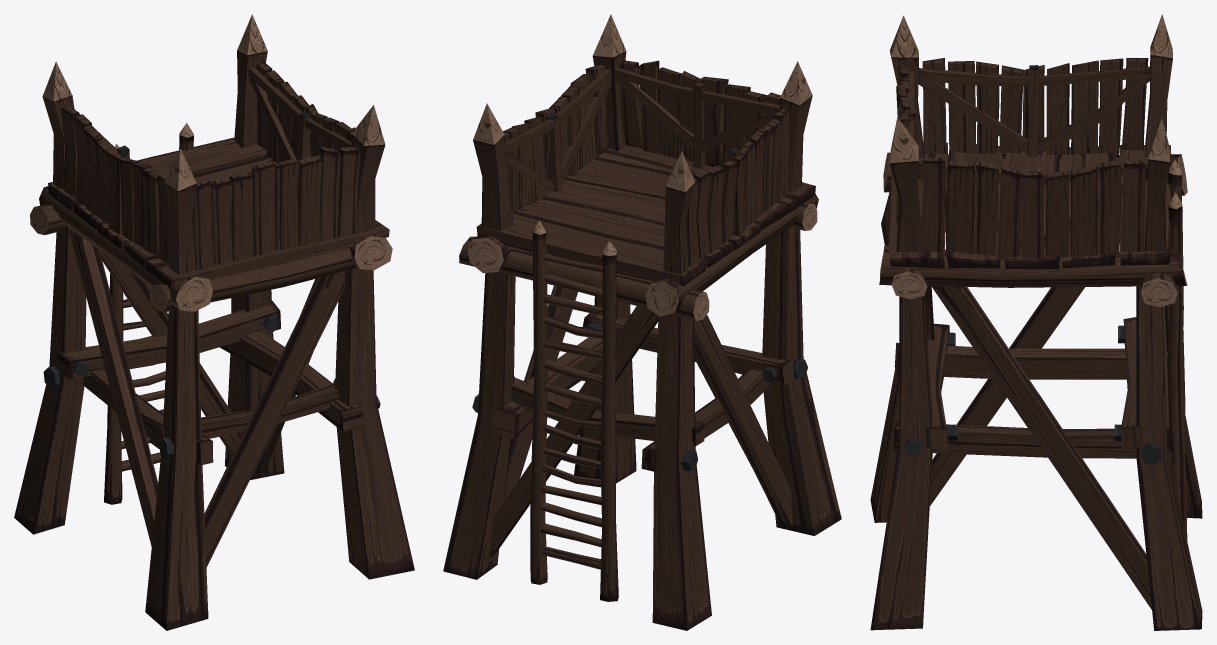
Rendered from SM_PROP_watchtower_battle.fbx.
3 renders of one model, left to right at view 1: azimuth 30°, elevation 25°; view 2: azimuth 150°, elevation 25°; view 3: azimuth 270°, elevation 25°, orthographic. The views are drawn at different scales.
Parts seen in each view (by area): view 1: SM_PROP_watchtower_battle; view 2: SM_PROP_watchtower_battle; view 3: SM_PROP_watchtower_battle.
Boxes of the visible parts, box(x1,y1,x2,y2) form: SM_PROP_watchtower_battle: box(14, 14, 414, 630); SM_PROP_watchtower_battle: box(443, 14, 841, 630); SM_PROP_watchtower_battle: box(870, 14, 1202, 630).
Size of the model in its own units: 342 by 605 by 364.
